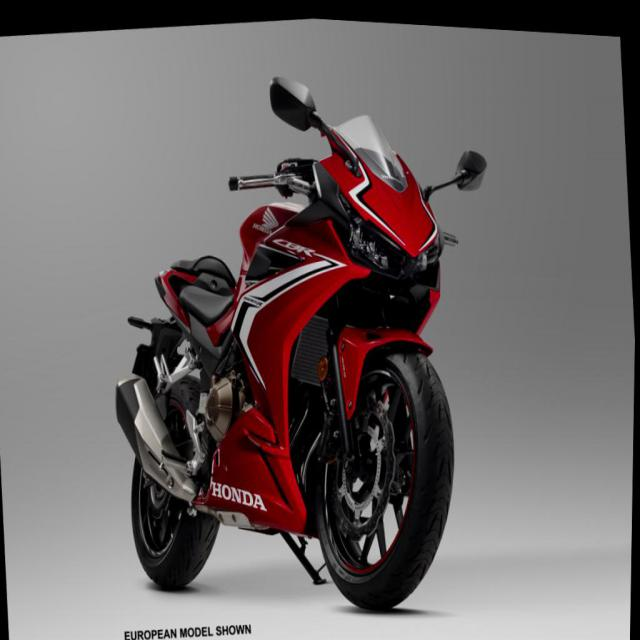CBR500R: (93, 36, 519, 639)
